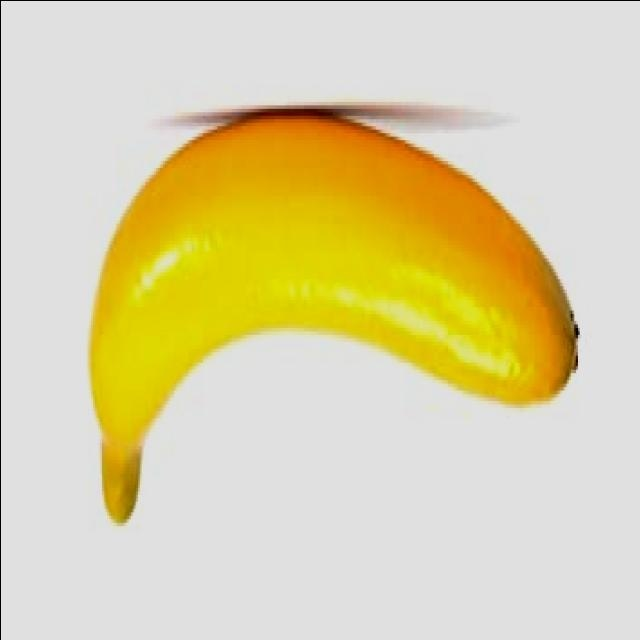agrume: (85, 105, 583, 523)
